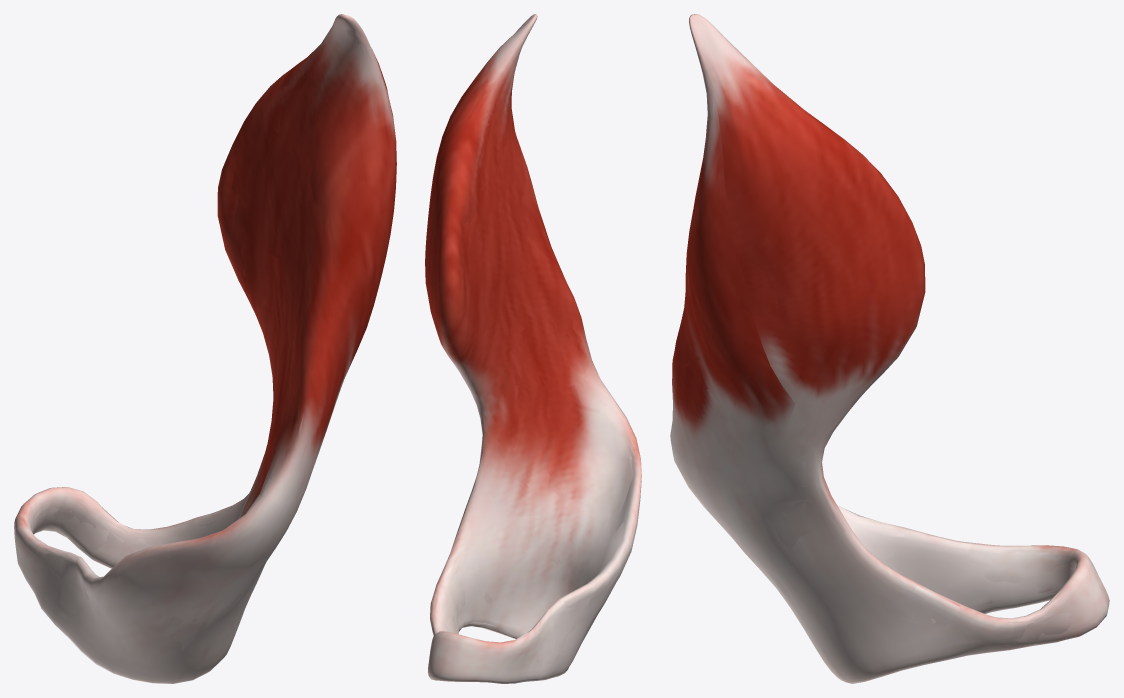
File: L Tensor Fasciae Latae.fbx
3 renders of one model, left to right at view 1: azimuth 30°, elevation 25°; view 2: azimuth 150°, elevation 25°; view 3: azimuth 270°, elevation 25°, orthographic. The views are drawn at different scales.
Parts seen in each view (by area): view 1: L Tensor Fasciae Latae, L Tensor Fasciae Latae low; view 2: L Tensor Fasciae Latae, L Tensor Fasciae Latae low; view 3: L Tensor Fasciae Latae, L Tensor Fasciae Latae low.
Part boxes in pixels (bbox=[...]): L Tensor Fasciae Latae: bbox=[14, 14, 396, 683]; L Tensor Fasciae Latae low: bbox=[23, 24, 381, 657]; L Tensor Fasciae Latae: bbox=[425, 14, 641, 683]; L Tensor Fasciae Latae low: bbox=[432, 20, 636, 682]; L Tensor Fasciae Latae: bbox=[670, 14, 1109, 683]; L Tensor Fasciae Latae low: bbox=[673, 22, 1076, 654].
Size of the model in its own units: 24.76 by 67.21 by 38.09.
